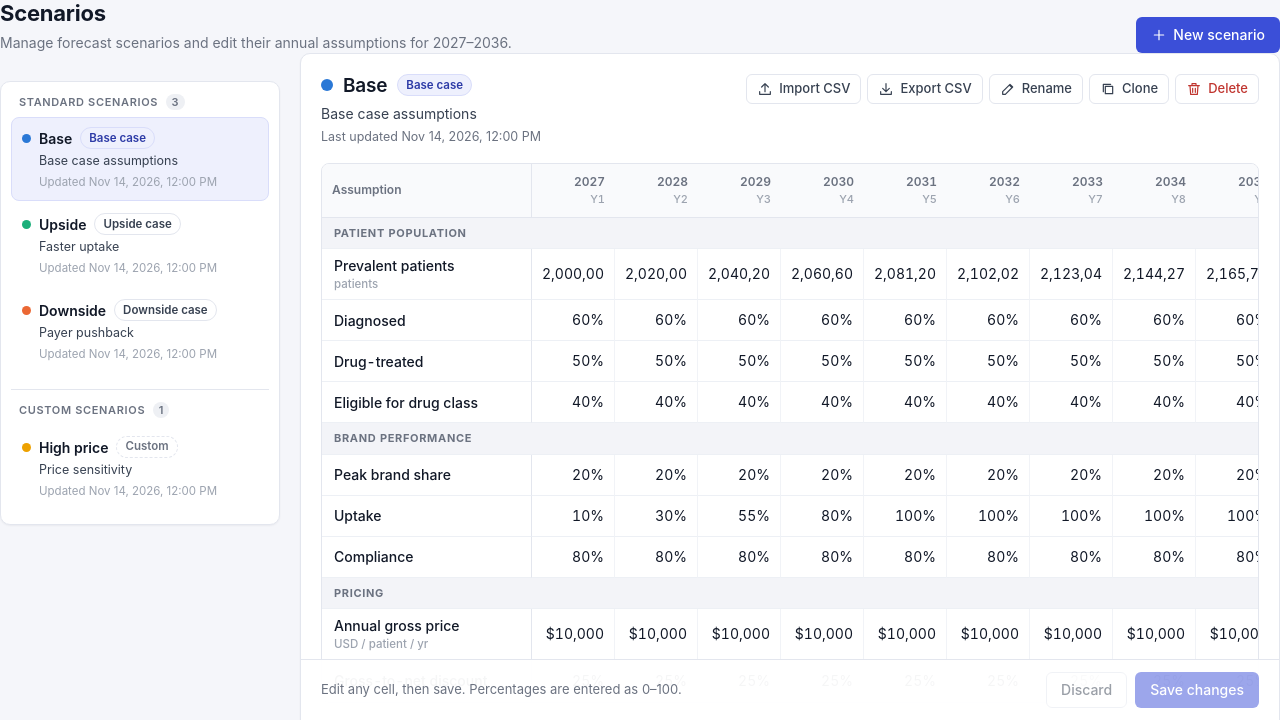
Test case: ScenariosPage – input grid › asks before switching scenarios with unsaved edits
Check: the table is shown, box [322,164,1259,702]
Replace the text in the field named "Diagnosed, 2027" with "70": {"x": 573, "y": 320} [532,300,614,340]
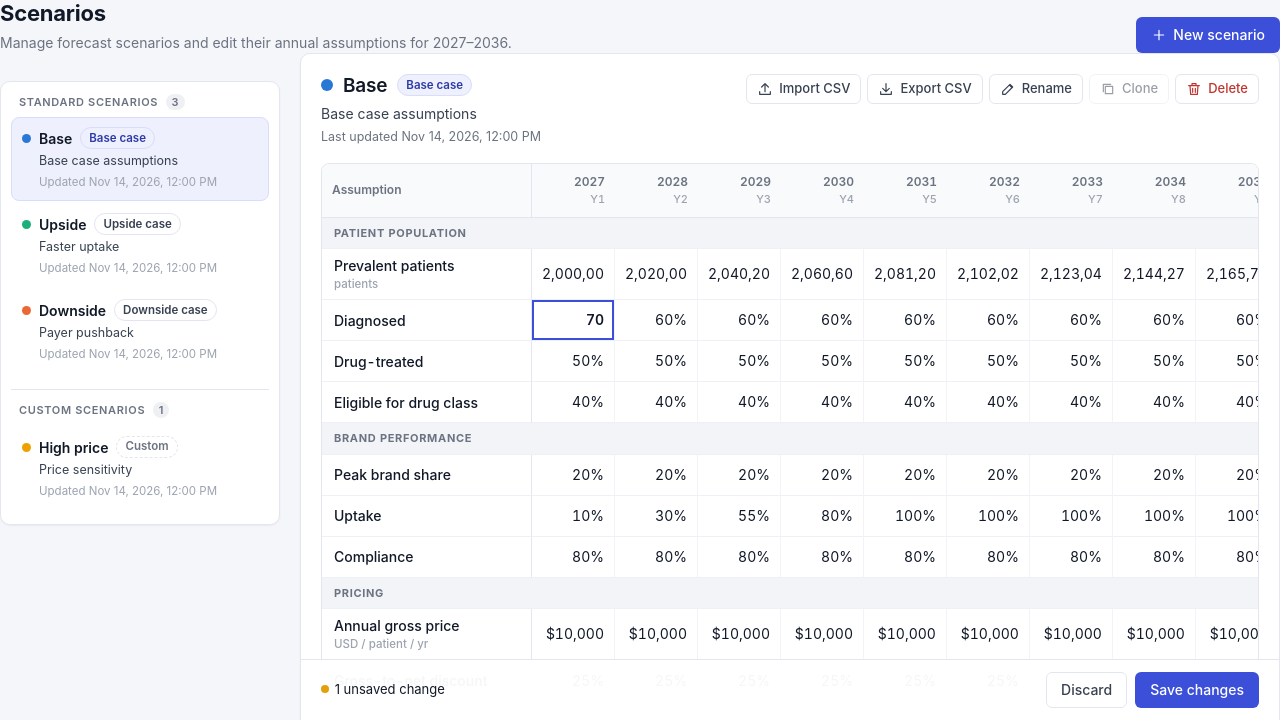
Click the button "Upside": {"x": 140, "y": 245} [11,203,269,287]
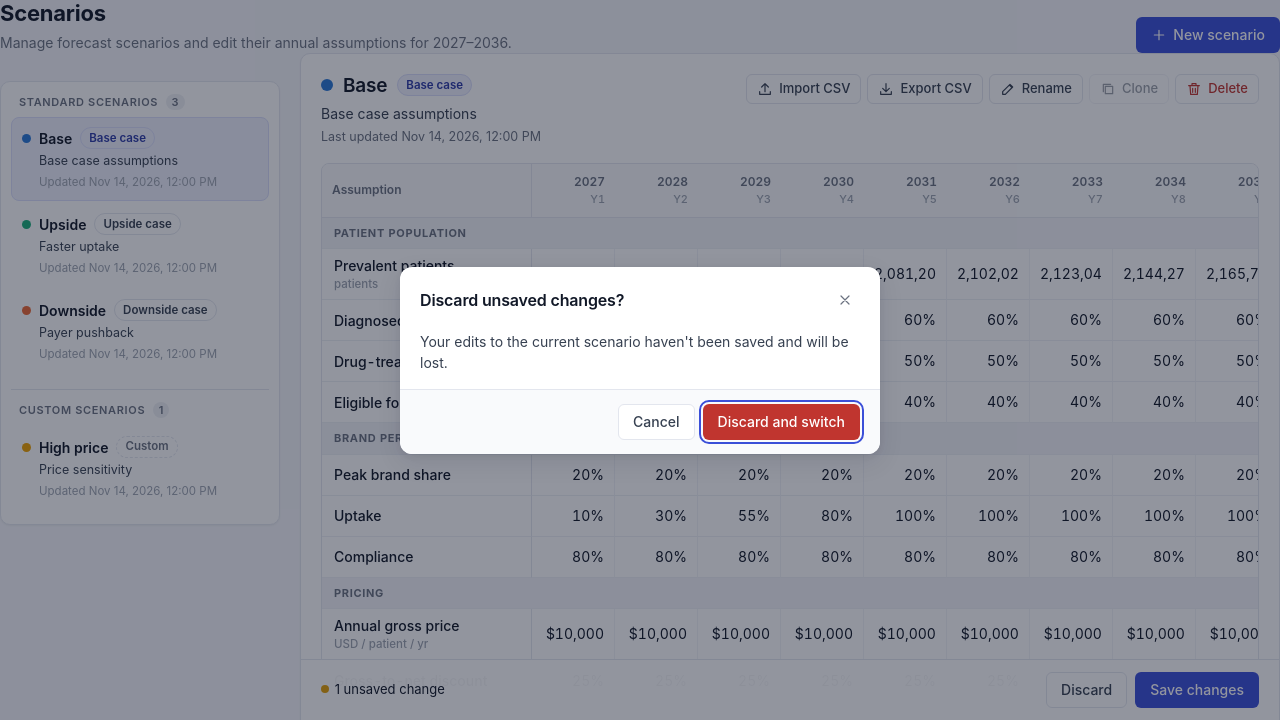
Click the button "Cancel": {"x": 656, "y": 422} [618,404,695,440]
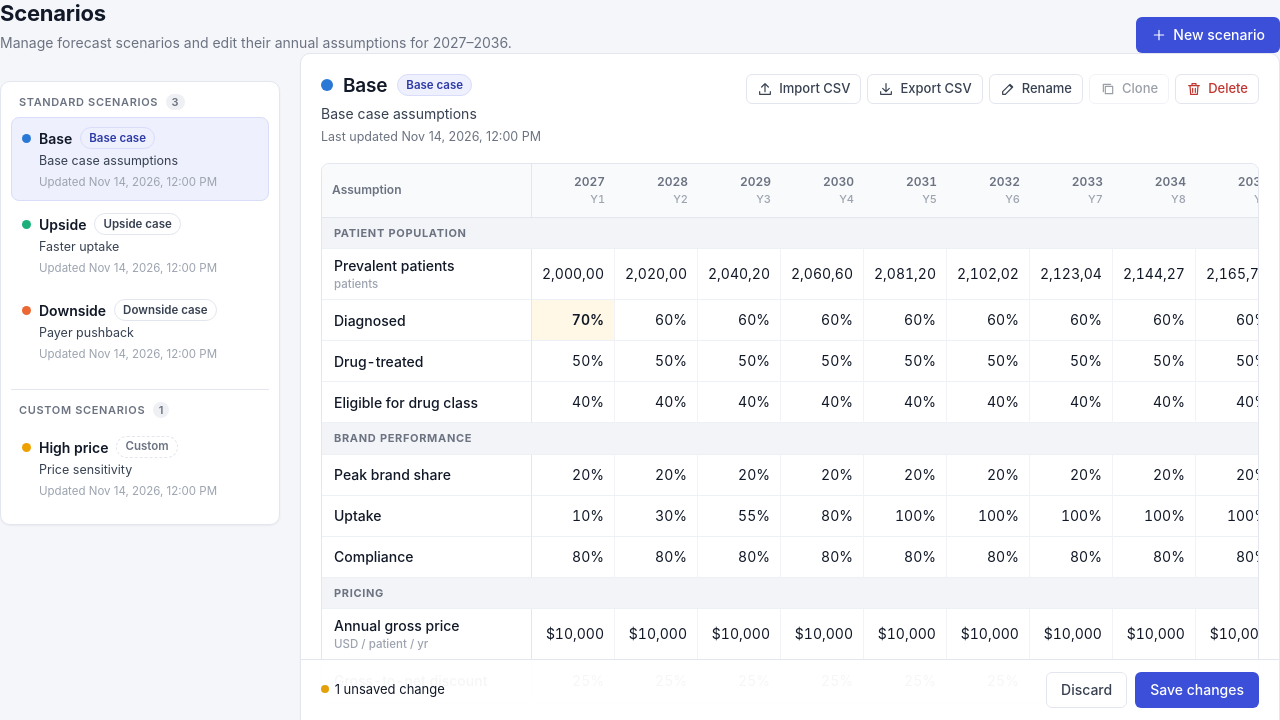
Click the button "Upside": {"x": 140, "y": 245} [11,203,269,287]
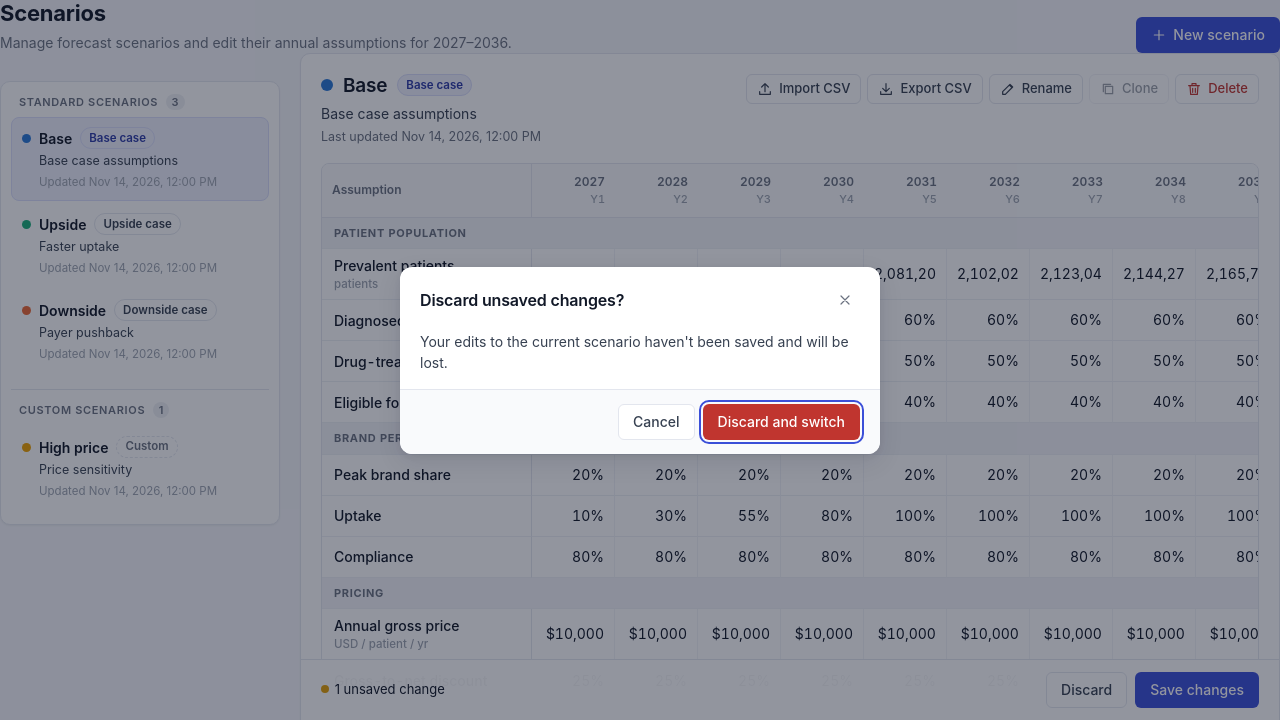
Click the button "Discard and switch": {"x": 781, "y": 422} [703,404,860,440]
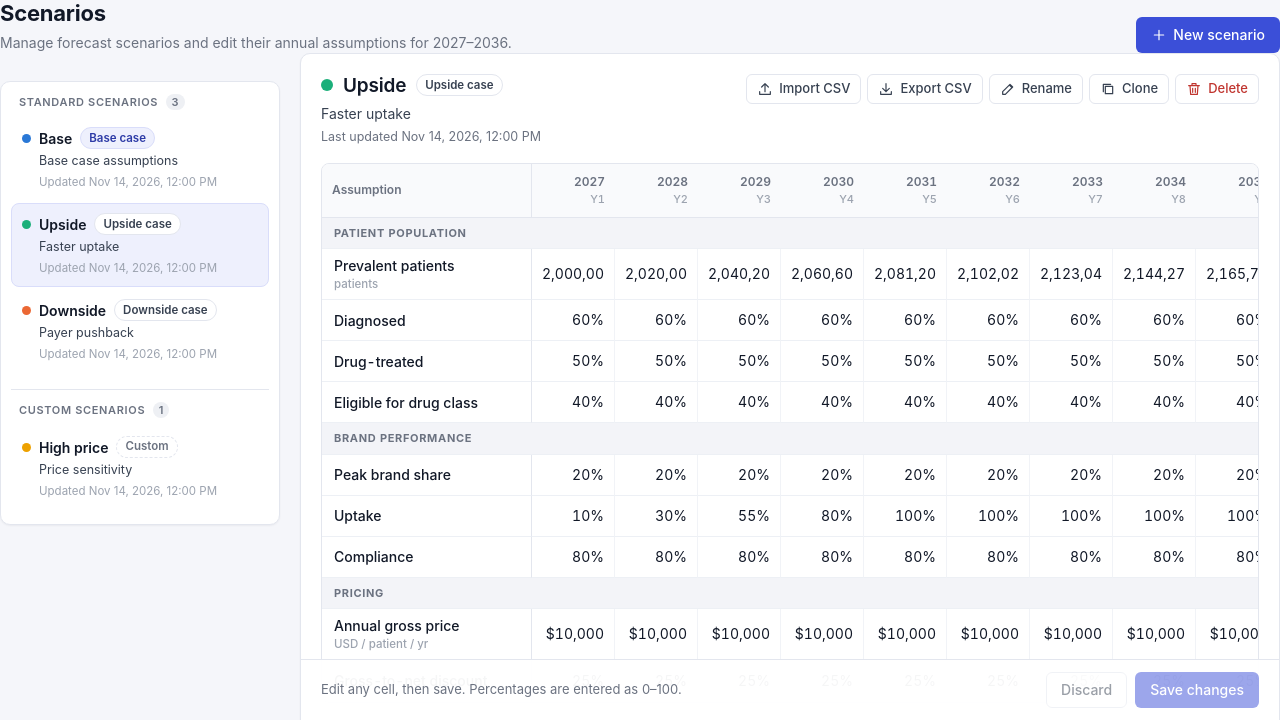
Check: the heading "Upside" is shown, box [343,74,406,97]
